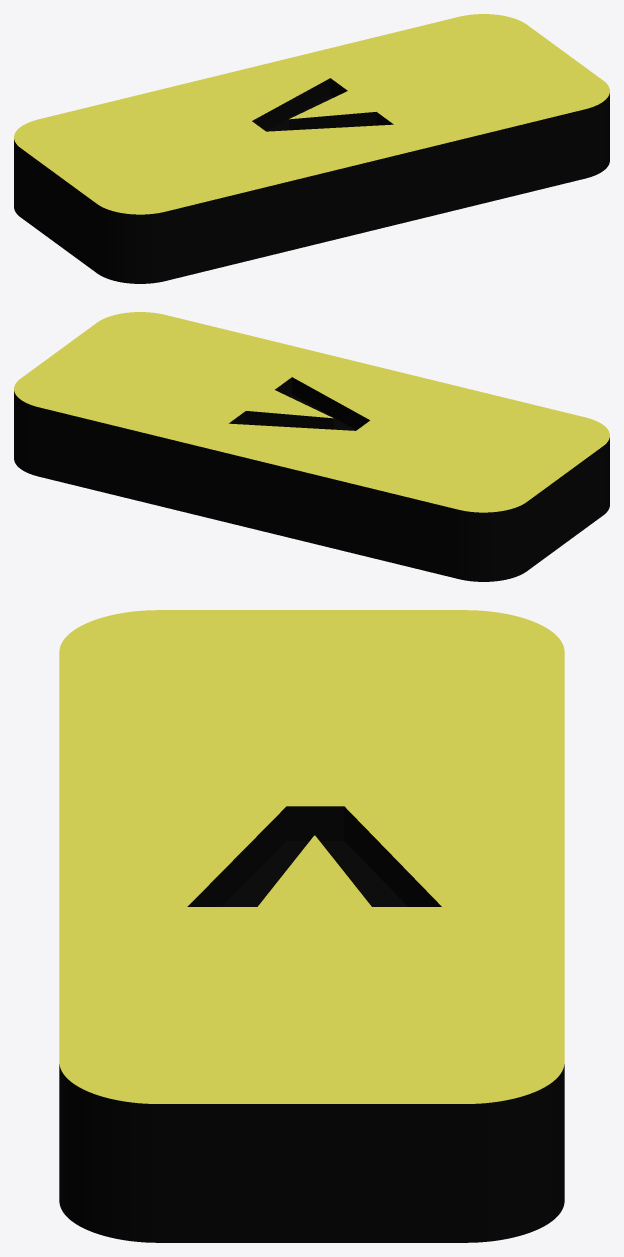
File: touche_jaune.fbx
3 views of the same model, one above another, from view 1: azimuth 30°, elevation 25°; view 2: azimuth 150°, elevation 25°; view 3: azimuth 270°, elevation 25° (orthographic). The views are drawn at different scales.
Parts seen in each view (by area): view 1: imagetostl_mesh0; view 2: imagetostl_mesh0; view 3: imagetostl_mesh0.
Boxes of the visible parts, box(x1,y1,x2,y2) form: imagetostl_mesh0: box(14, 14, 609, 283); imagetostl_mesh0: box(14, 312, 609, 581); imagetostl_mesh0: box(59, 610, 564, 1242).
Size of the model in its own units: 1527 by 200 by 660.
